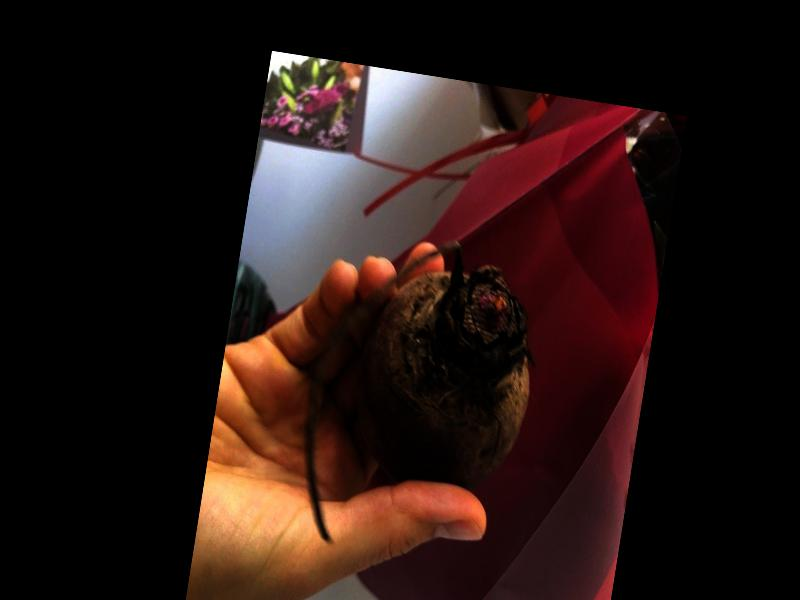Beet: (289, 220, 551, 570)
